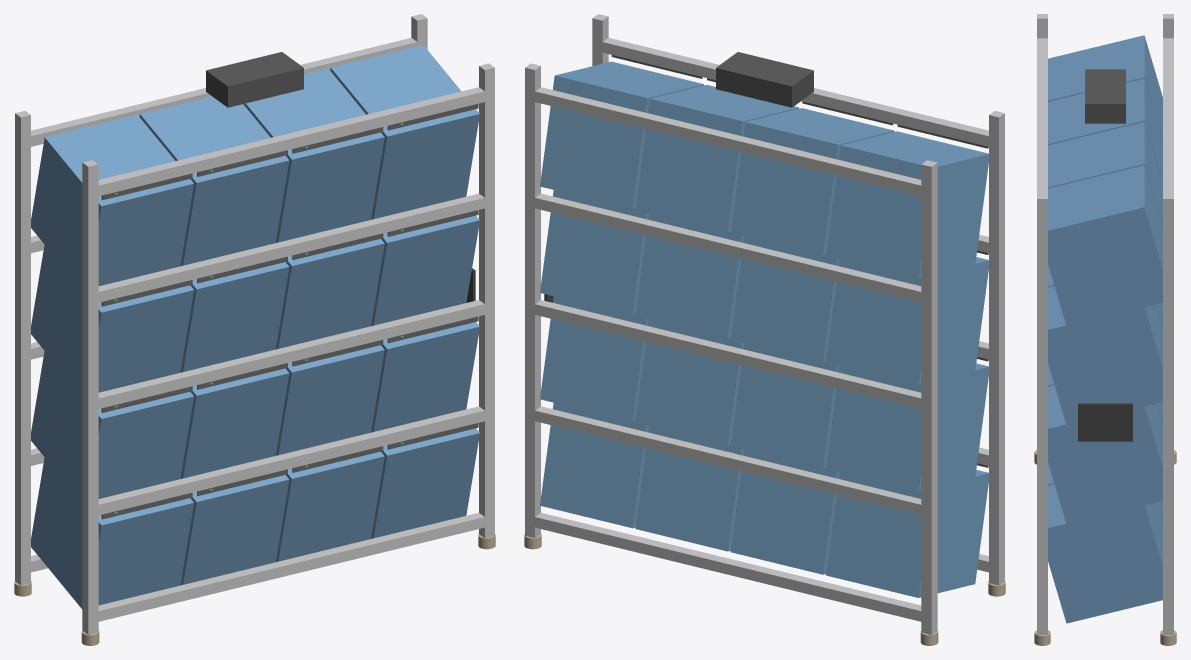
File: putwall-standard-16cell.glb
3 renders of one model, left to right at view 1: azimuth 30°, elevation 25°; view 2: azimuth 150°, elevation 25°; view 3: azimuth 270°, elevation 25°, orthographic. The views are drawn at different scales.
Parts seen in each view (by area): view 1: cell_3_0, cell_3_3, cell_3_1, cell_0_0, cell_2_0, cell_1_0, cell_3_2, cell_0_3, cell_0_1, cell_1_2, cell_2_1, cell_2_3 (+14 smaller); view 2: cell_3_0, cell_0_0, cell_1_0, cell_2_0, cell_3_3, cell_3_1, cell_3_2, cell_1_1, cell_0_2, cell_2_2, cell_2_3, cell_0_1 (+15 smaller); view 3: cell_3_3, cell_0_3, cell_2_3, cell_1_3, cell_3_2, post_1, post_3, cell_3_0, cell_3_1, control_box, screen, beam_back_4 (+3 smaller).
Part boxes in pixels (box(x1,y1,x2,y2)): cell_3_0: box(31, 114, 193, 288); cell_3_3: box(330, 45, 479, 219); cell_3_1: box(139, 96, 289, 266); cell_0_0: box(31, 457, 193, 608); cell_2_0: box(31, 244, 193, 395); cell_1_0: box(31, 351, 193, 501); cell_3_2: box(243, 68, 384, 242); cell_0_3: box(371, 428, 479, 538); cell_0_1: box(180, 475, 289, 585); cell_1_2: box(276, 345, 384, 455); cell_2_1: box(180, 262, 289, 372); cell_2_3: box(371, 215, 479, 326); cell_3_0: box(826, 131, 988, 278); cell_0_0: box(826, 470, 988, 597); cell_1_0: box(826, 363, 988, 491); cell_2_0: box(826, 257, 988, 385); cell_3_3: box(540, 61, 703, 208); cell_3_1: box(730, 108, 894, 255); cell_3_2: box(635, 85, 799, 232); cell_1_1: box(730, 343, 839, 468); cell_0_2: box(635, 426, 744, 551); cell_2_2: box(635, 213, 744, 338); cell_2_3: box(540, 190, 648, 315); cell_0_1: box(730, 449, 839, 574); cell_3_3: box(1048, 165, 1162, 325); cell_0_3: box(1048, 484, 1162, 623); cell_2_3: box(1048, 286, 1162, 424); cell_1_3: box(1048, 385, 1162, 524); cell_3_2: box(1048, 122, 1162, 226); post_1: box(1037, 194, 1047, 634); post_3: box(1163, 194, 1173, 634); cell_3_0: box(1048, 35, 1162, 139); cell_3_1: box(1048, 78, 1162, 183); control_box: box(1085, 69, 1125, 123); screen: box(1078, 403, 1132, 441); beam_back_4: box(1163, 38, 1173, 228).
Size of the model in its own units: 1620 by 1880 by 520.
